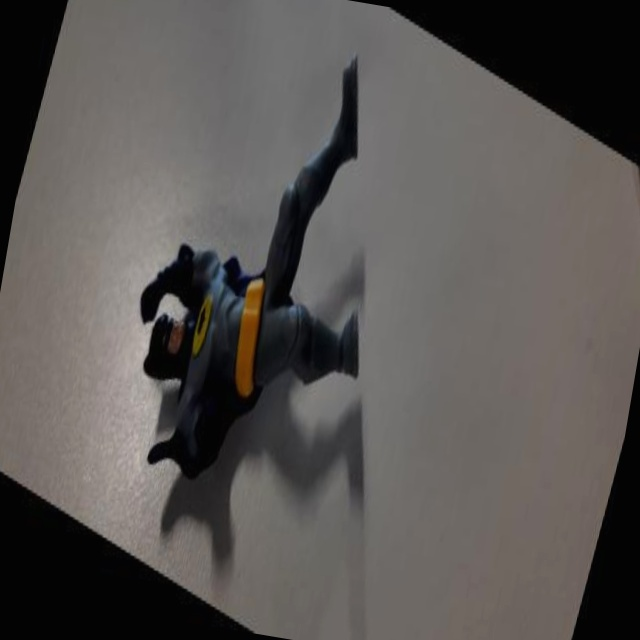Batman: (88, 0, 447, 580)
